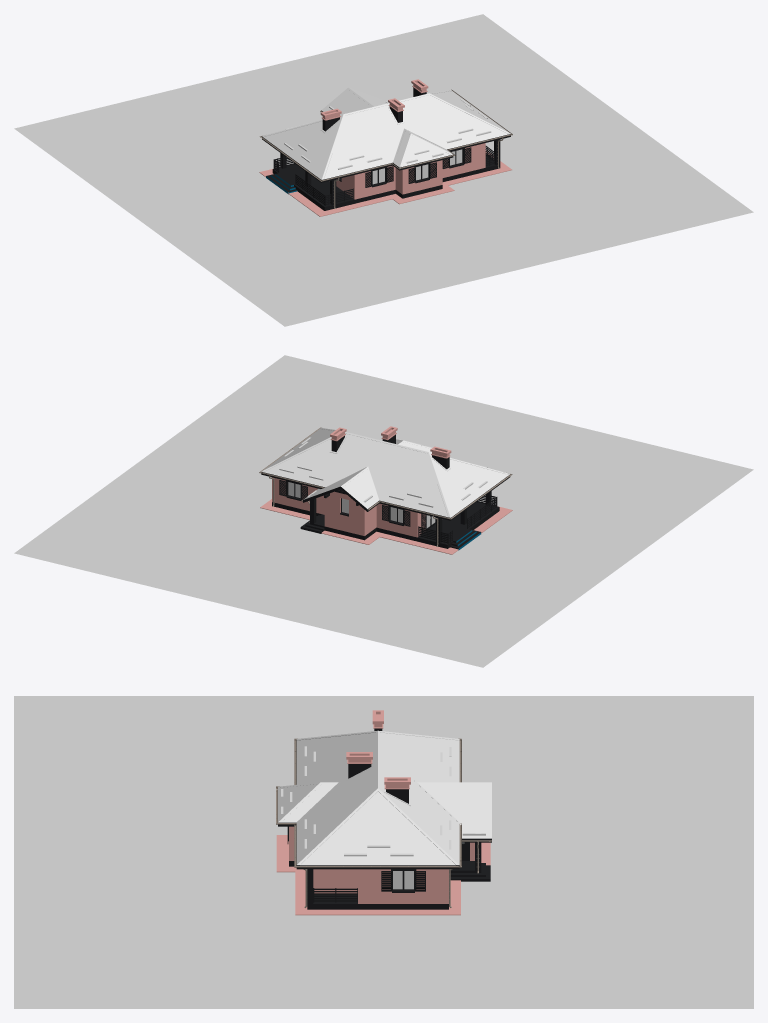
Rendered from House.fbx.
3 renders of one model, top to bottom at view 1: azimuth 30°, elevation 25°; view 2: azimuth 150°, elevation 25°; view 3: azimuth 270°, elevation 25°, orthographic. The views are drawn at different scales.
Parts seen in each view (by area): view 1: Plane, www.a-r-23, www.a-r-20, www.a-r-31, www.a-r-32, www.a-r-19, www.a-r-11, www.a-r-13, www.a-r-18, www.a-r-22, www.a-r-c1; view 2: Plane, www.a-r-23, www.a-r-20, www.a-r-32, www.a-r-19, www.a-r-31, www.a-r-13, www.a-r-22, www.a-r-11, www.a-r-18; view 3: Plane, www.a-r-23, www.a-r-20, www.a-r-31, www.a-r-18, www.a-r-19, www.a-r-22, www.a-r-c1, www.a-r-32, www.a-r-11, www.a-r-13, www.a-r-26.
Part boxes in pixels (box(x1,y1,x2,y2)): Plane: box(14, 14, 753, 326); www.a-r-23: box(263, 88, 508, 179); www.a-r-20: box(259, 86, 511, 216); www.a-r-31: box(262, 87, 510, 179); www.a-r-32: box(266, 154, 495, 206); www.a-r-19: box(266, 164, 500, 210); www.a-r-11: box(339, 147, 471, 187); www.a-r-13: box(273, 146, 495, 205); www.a-r-18: box(259, 89, 512, 208); www.a-r-22: box(262, 110, 510, 182); www.a-r-c1: box(284, 99, 491, 169); Plane: box(14, 355, 753, 667); www.a-r-23: box(263, 429, 508, 517); www.a-r-20: box(260, 433, 512, 554); www.a-r-32: box(301, 502, 498, 548); www.a-r-19: box(272, 502, 499, 550); www.a-r-31: box(261, 428, 509, 517); www.a-r-13: box(418, 495, 497, 544); www.a-r-22: box(261, 472, 510, 520); www.a-r-11: box(279, 480, 410, 526); www.a-r-18: box(259, 427, 512, 546); Plane: box(14, 696, 753, 1008); www.a-r-23: box(278, 732, 491, 865); www.a-r-20: box(276, 724, 490, 915); www.a-r-31: box(278, 730, 491, 865); www.a-r-18: box(276, 738, 491, 907); www.a-r-19: box(289, 861, 490, 909); www.a-r-22: box(278, 822, 491, 869); www.a-r-c1: box(281, 746, 485, 856); www.a-r-32: box(313, 861, 490, 903); www.a-r-11: box(287, 826, 425, 891); www.a-r-13: box(313, 888, 357, 902); www.a-r-26: box(346, 710, 410, 784).
Bounding box in the file's own units: 17.05 × 4.35 × 17.05.
